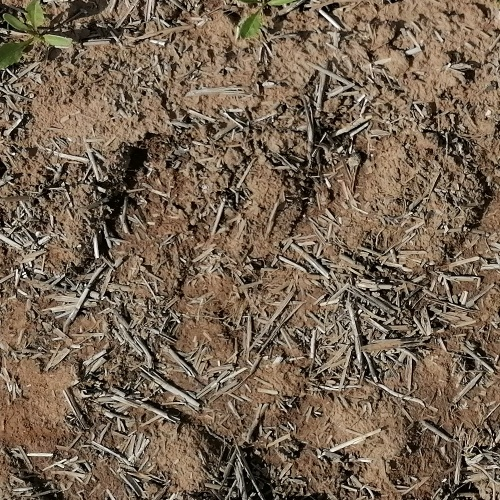beet: (0, 0, 73, 69), (239, 0, 293, 44)
